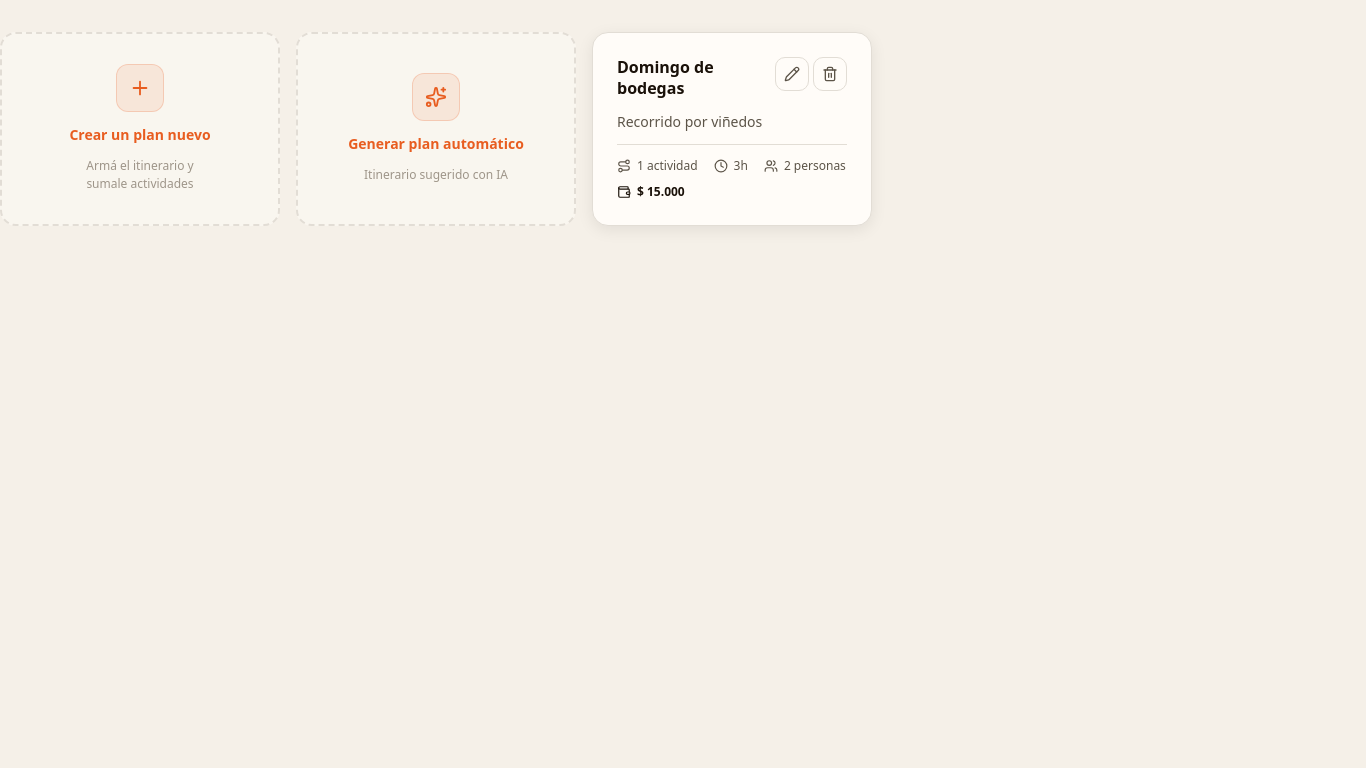
Test: MyPlansPanel (CU29) › keeps the dialog open and reports the message when deletion fails
Step 1. Click the button named "Eliminar Domingo de bodegas" → point(830, 74), box [813,57,847,91]
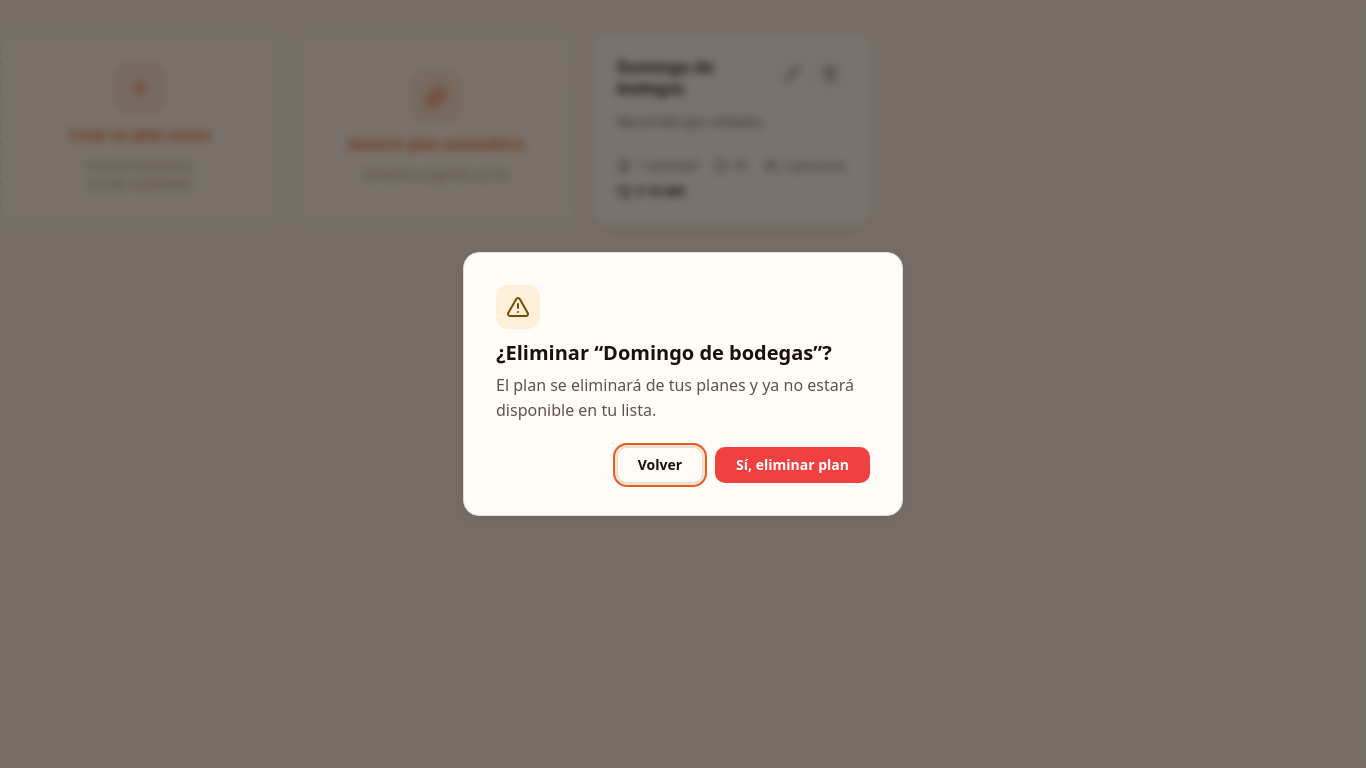
Step 2. Click the button "Sí, eliminar plan" → point(793, 465), box [715,447,870,483]
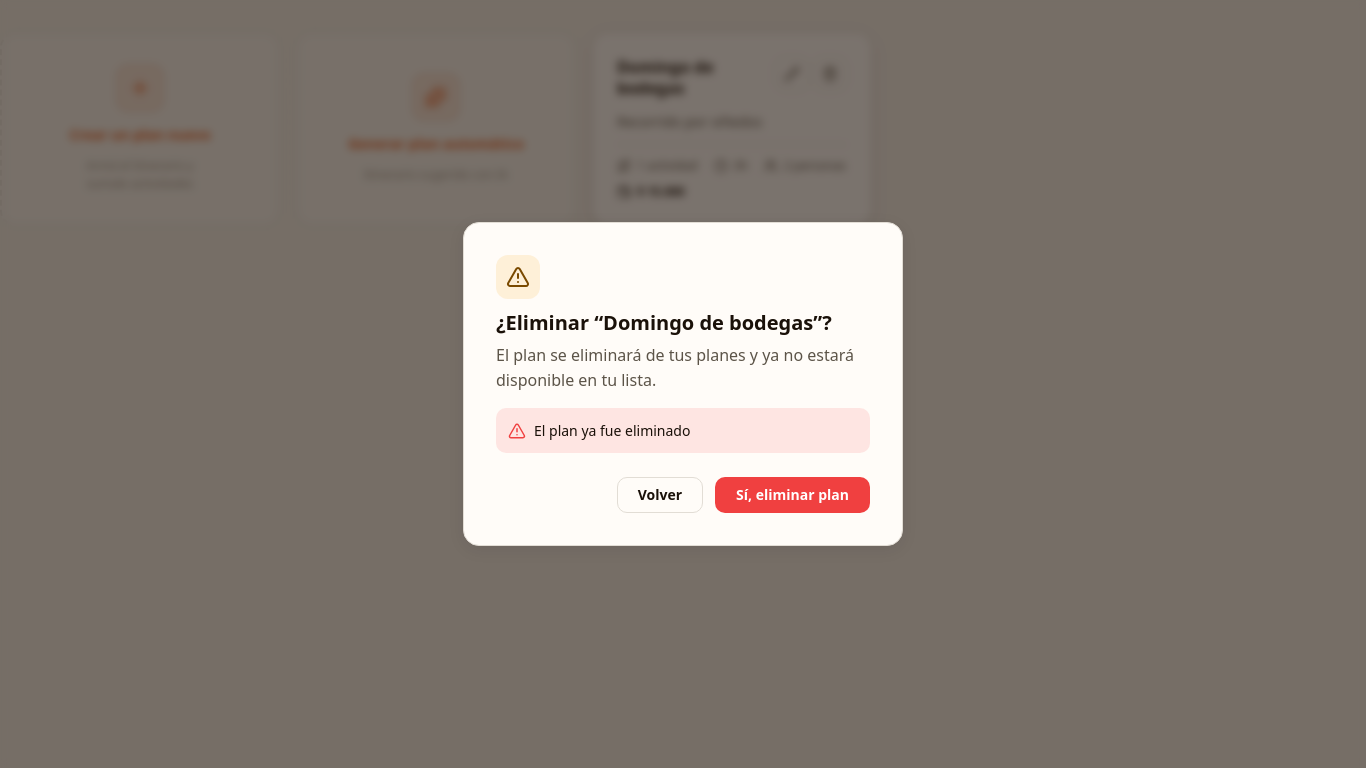
Expected: the dialog is shown, [463,222,903,546]
Expected: the text "El plan ya fue eliminado" is shown, [496,408,870,453]
